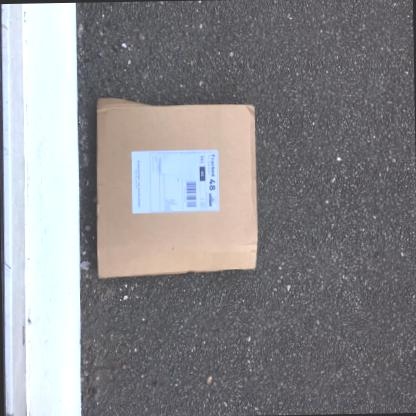box: (94, 96, 260, 283)
